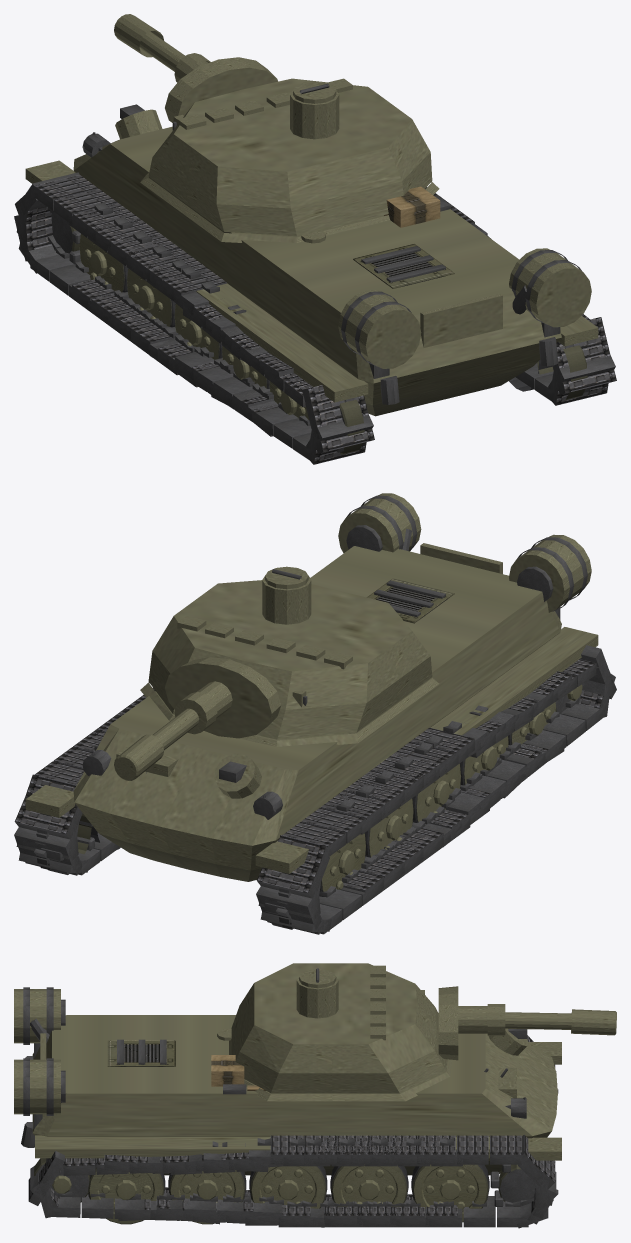
The model's file is t34_replica.glb.
3 renders of one model, top to bottom at view 1: azimuth 30°, elevation 25°; view 2: azimuth 150°, elevation 25°; view 3: azimuth 270°, elevation 25°, orthographic. The views are drawn at different scales.
Parts seen in each view (by area): view 1: Cosmetic_hull, Cosmetic_turret, Cosmetic_track_left, Cosmetic_wheels, Cosmetic_track_right, Cosmetic_gun_recoil; view 2: Cosmetic_hull, Cosmetic_turret, Cosmetic_track_left, Cosmetic_wheels, Cosmetic_track_right, Cosmetic_gun_recoil; view 3: Cosmetic_hull, Cosmetic_turret, Cosmetic_track_right, Cosmetic_wheels, Cosmetic_gun_recoil.
Part boxes in pixels (box(x1,y1,x2,y2)): Cosmetic_hull: box(25, 104, 598, 416); Cosmetic_turret: box(140, 53, 439, 242); Cosmetic_track_left: box(14, 172, 374, 464); Cosmetic_wheels: box(51, 212, 587, 454); Cosmetic_track_right: box(425, 187, 616, 405); Cosmetic_gun_recoil: box(114, 14, 185, 71); Cosmetic_hull: box(25, 493, 598, 881); Cosmetic_turret: box(140, 566, 439, 746); Cosmetic_track_left: box(256, 645, 616, 934); Cosmetic_wheels: box(40, 684, 582, 929); Cosmetic_track_right: box(14, 688, 155, 875); Cosmetic_gun_recoil: box(114, 708, 199, 780); Cosmetic_hull: box(14, 987, 561, 1175); Cosmetic_turret: box(229, 963, 505, 1101); Cosmetic_track_right: box(28, 1134, 558, 1228); Cosmetic_wheels: box(34, 1158, 535, 1224); Cosmetic_gun_recoil: box(505, 1009, 616, 1035).
Size of the model in its own units: 2.96 by 2.32 by 6.17.
1 material, 1 textured.
